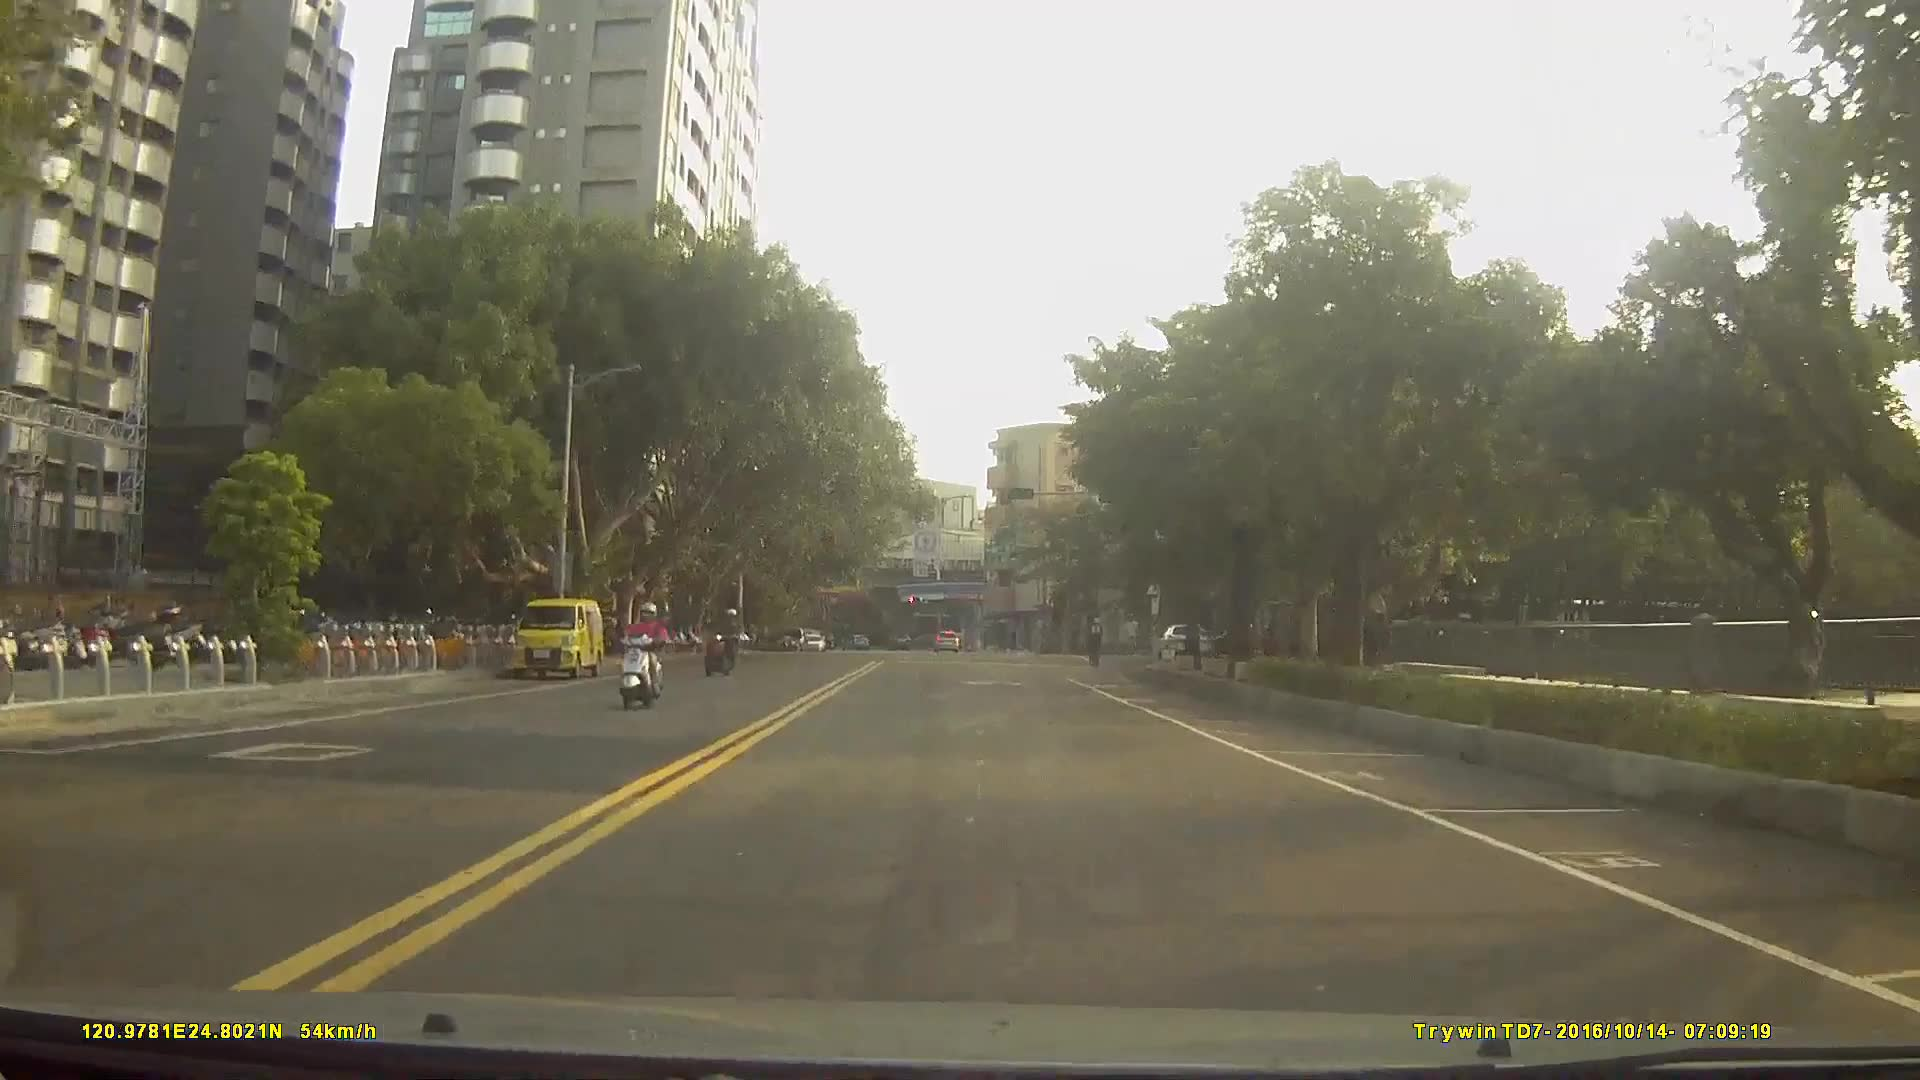pedestrian: (1121, 612, 1141, 656)
rider: (615, 602, 675, 708), (702, 606, 742, 676), (1085, 619, 1106, 673)
vehicle: (935, 628, 959, 652)
